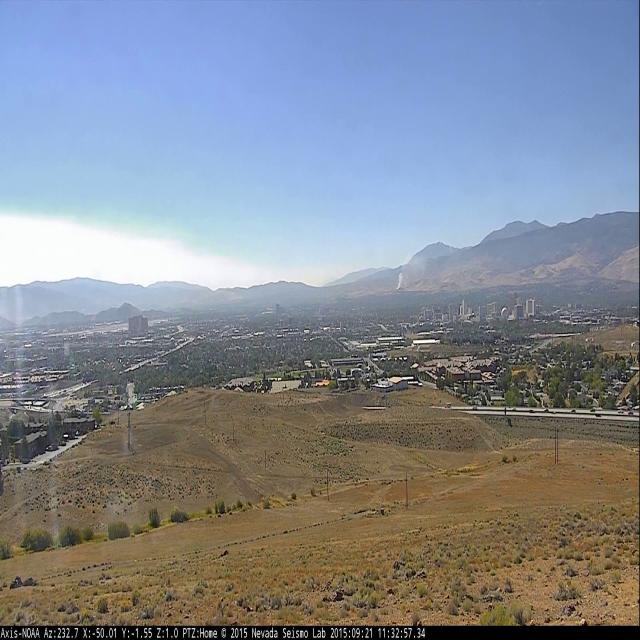smoke: (396, 255, 426, 288)
